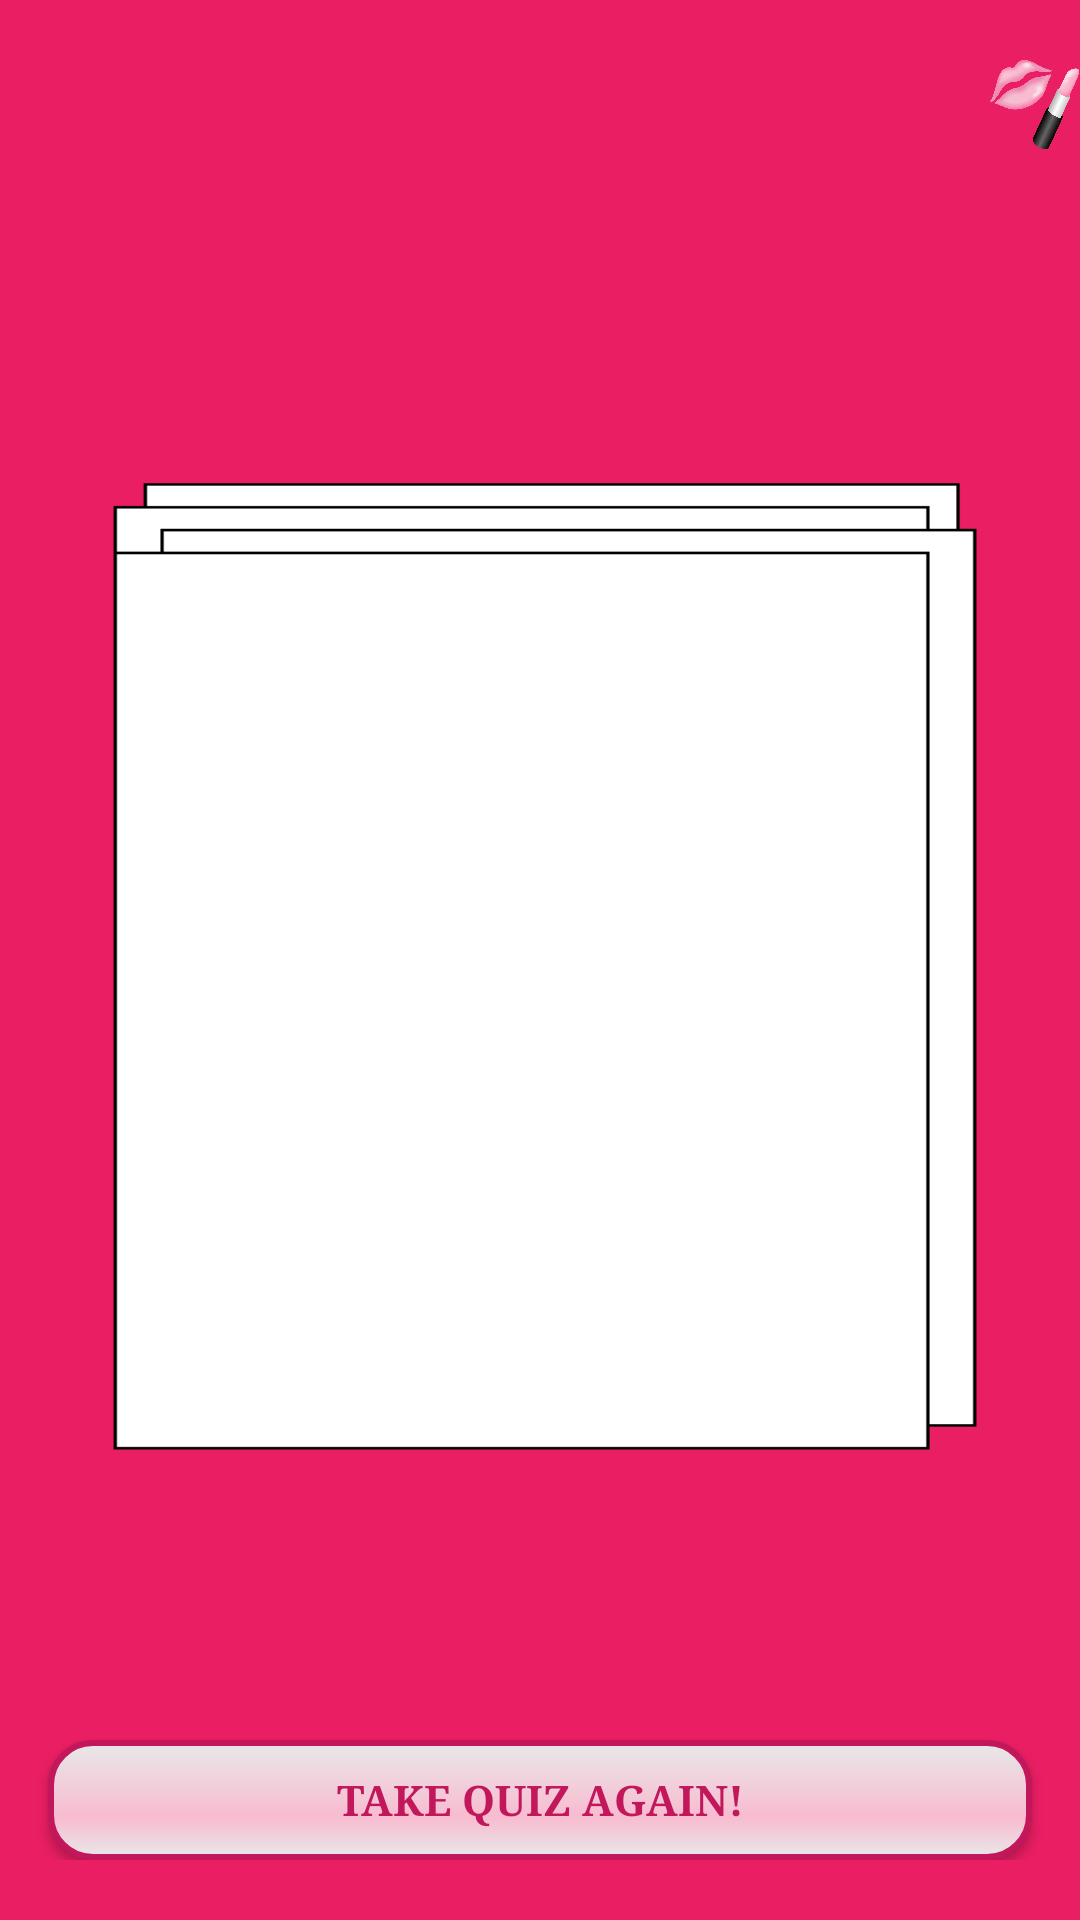

Named icons in this screenshot (1080*1920) and their centers, [x,y]:
lips and lipstick: [1034,104]
